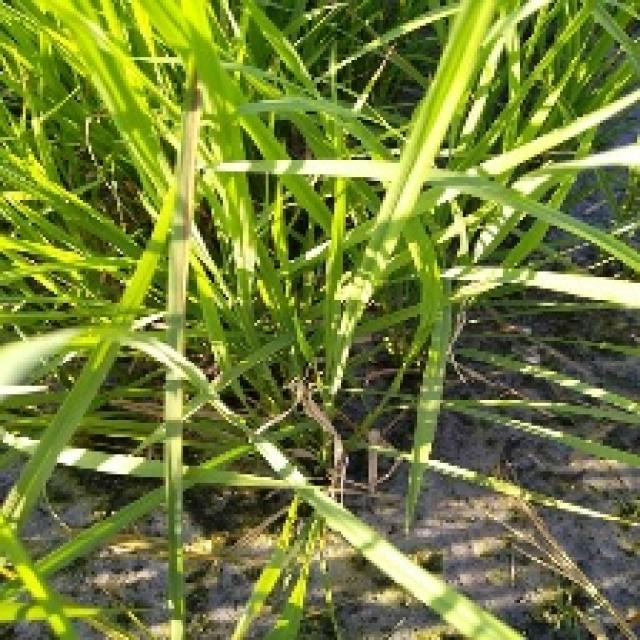Unhealthy: (173, 79, 203, 288)
